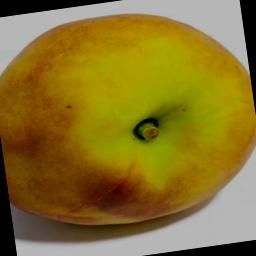Peach Unripe: (0, 0, 256, 239)
